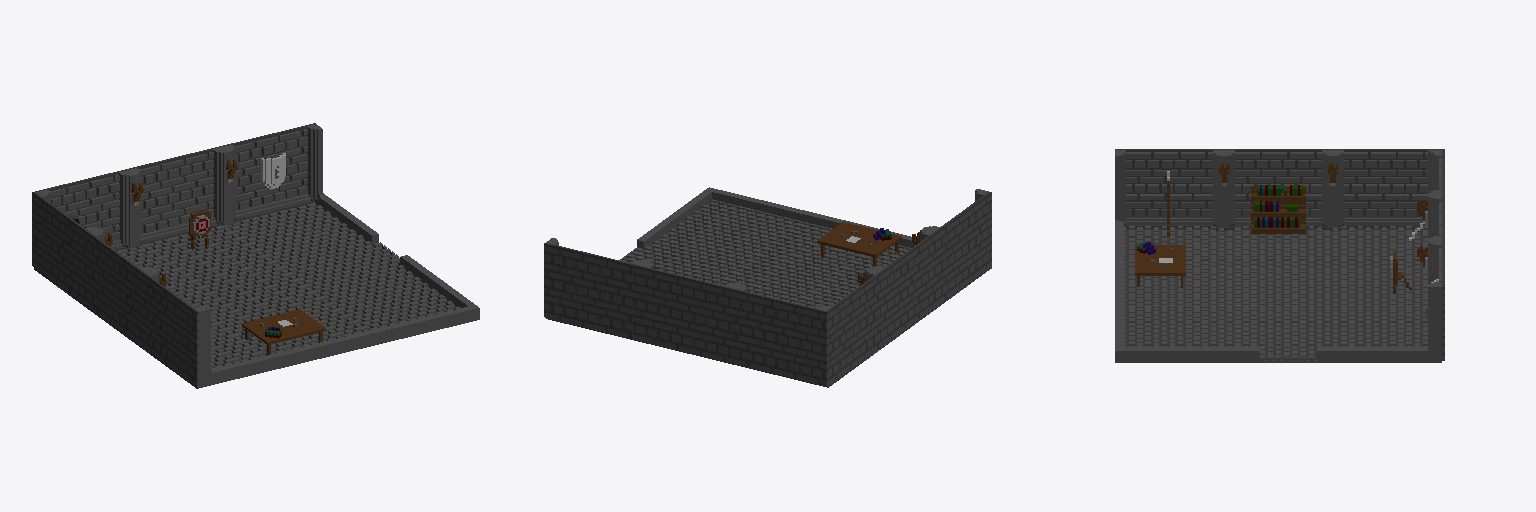
3 views of the same model, side by side, from view 1: azimuth 30°, elevation 25°; view 2: azimuth 150°, elevation 25°; view 3: azimuth 270°, elevation 25° (orthographic).
Bounding box in the file's own units: 120 × 31 × 121.
1 materials, 1 textured.